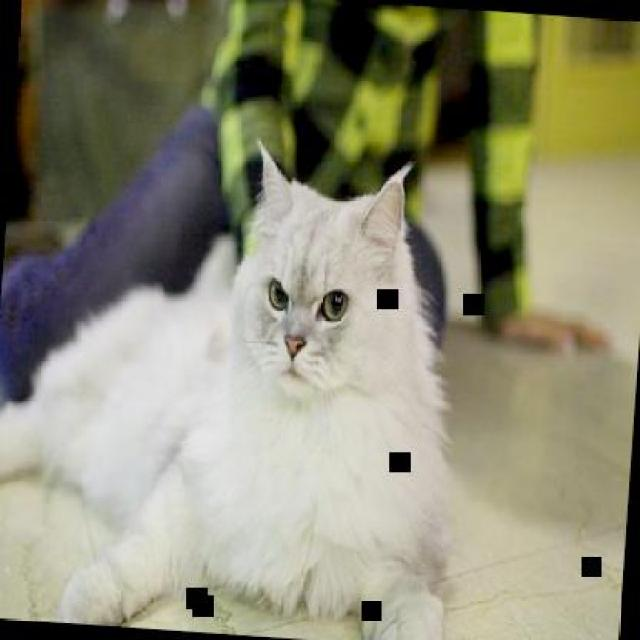cat: (0, 131, 480, 638)
